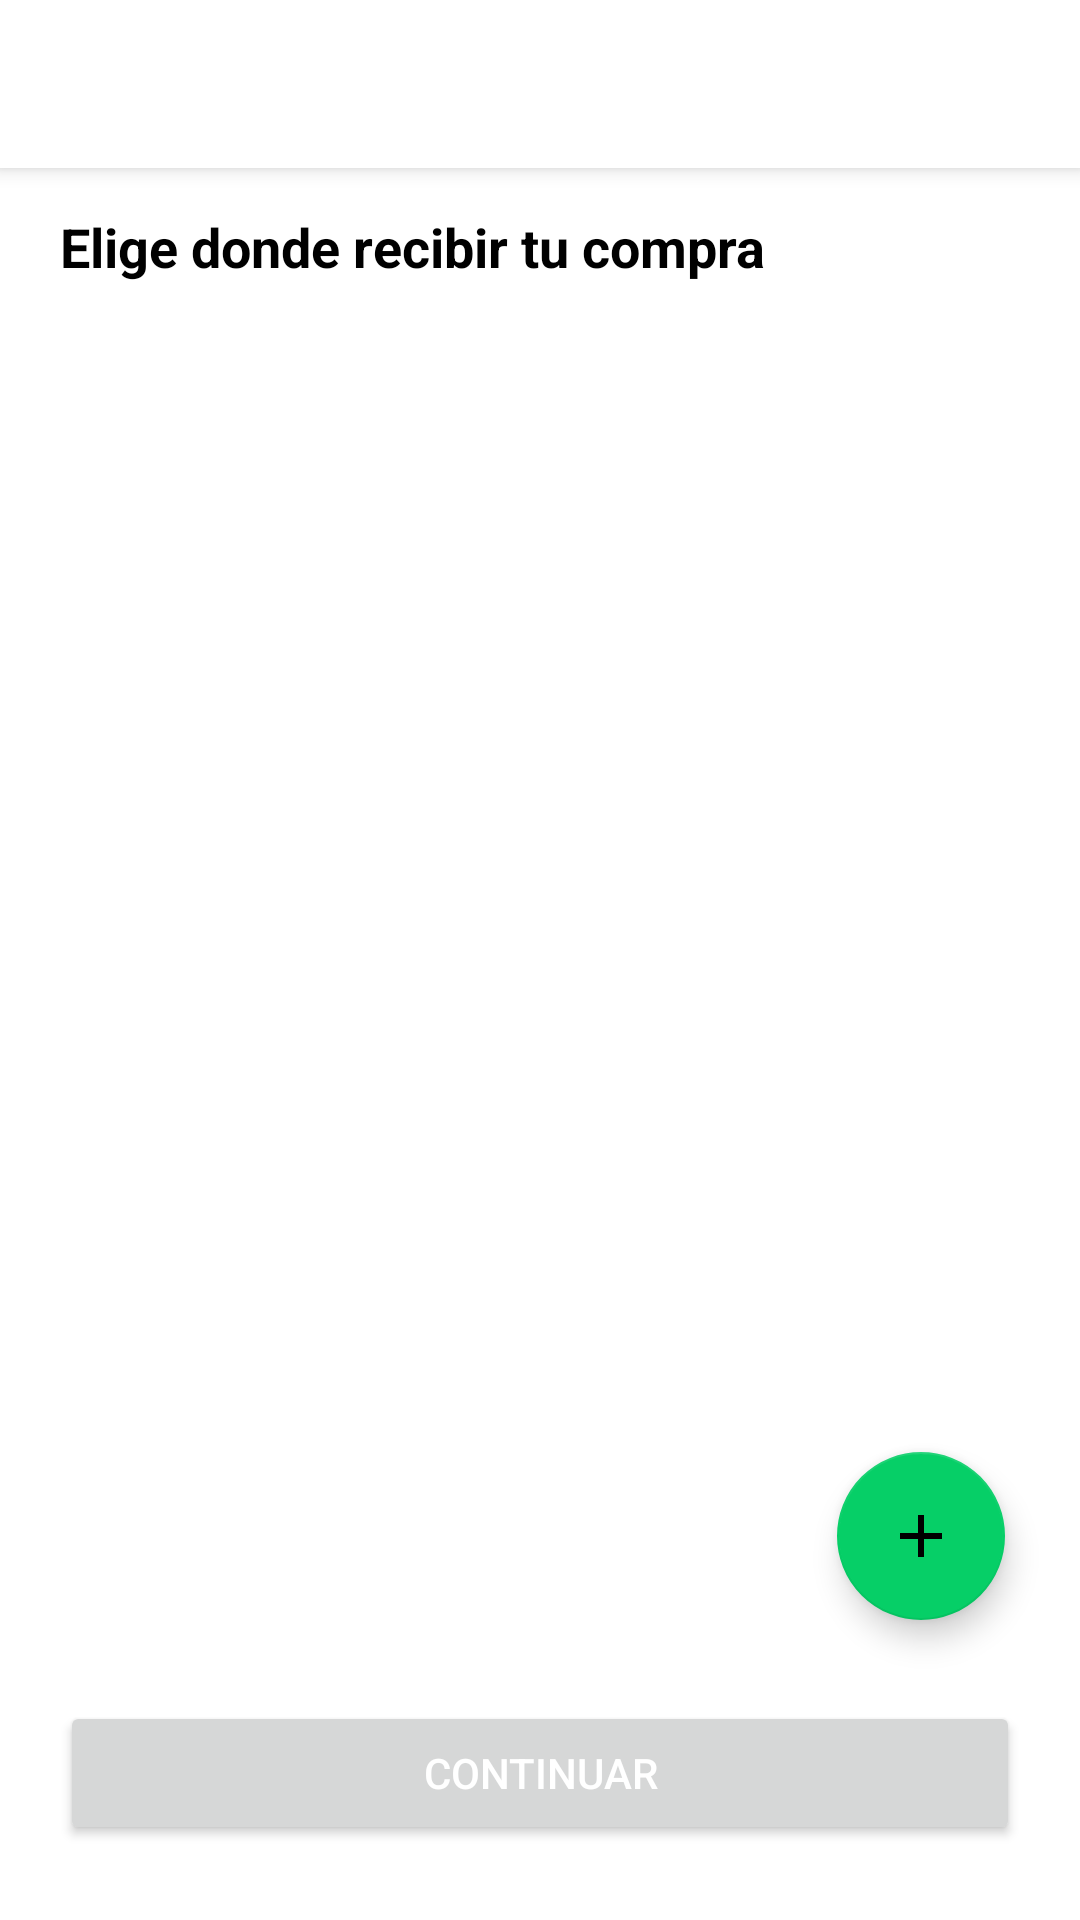

Point at icon controls on the screen. Image size 1080px x 1920px, points as [x,y].
add simple: [921,1536]
